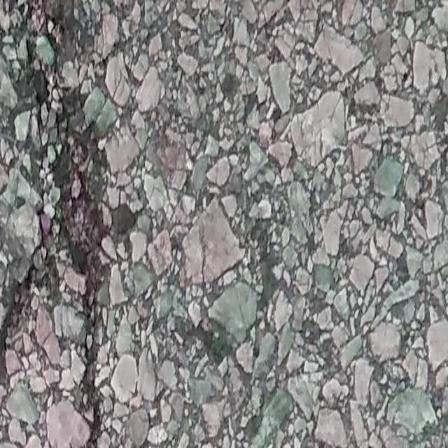crack: (0, 3, 108, 445)
